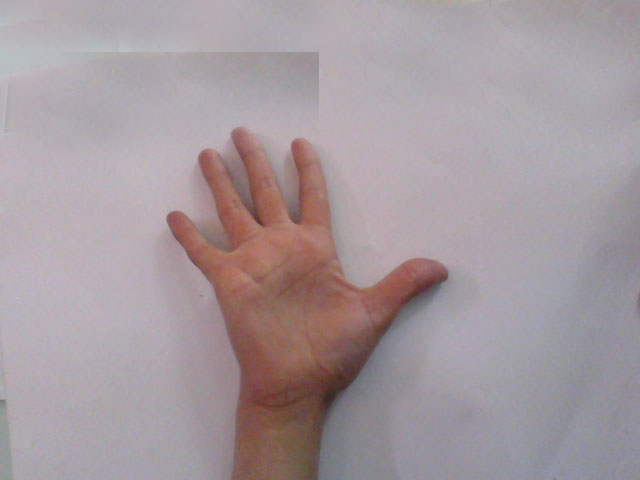hand: (154, 116, 462, 387)
